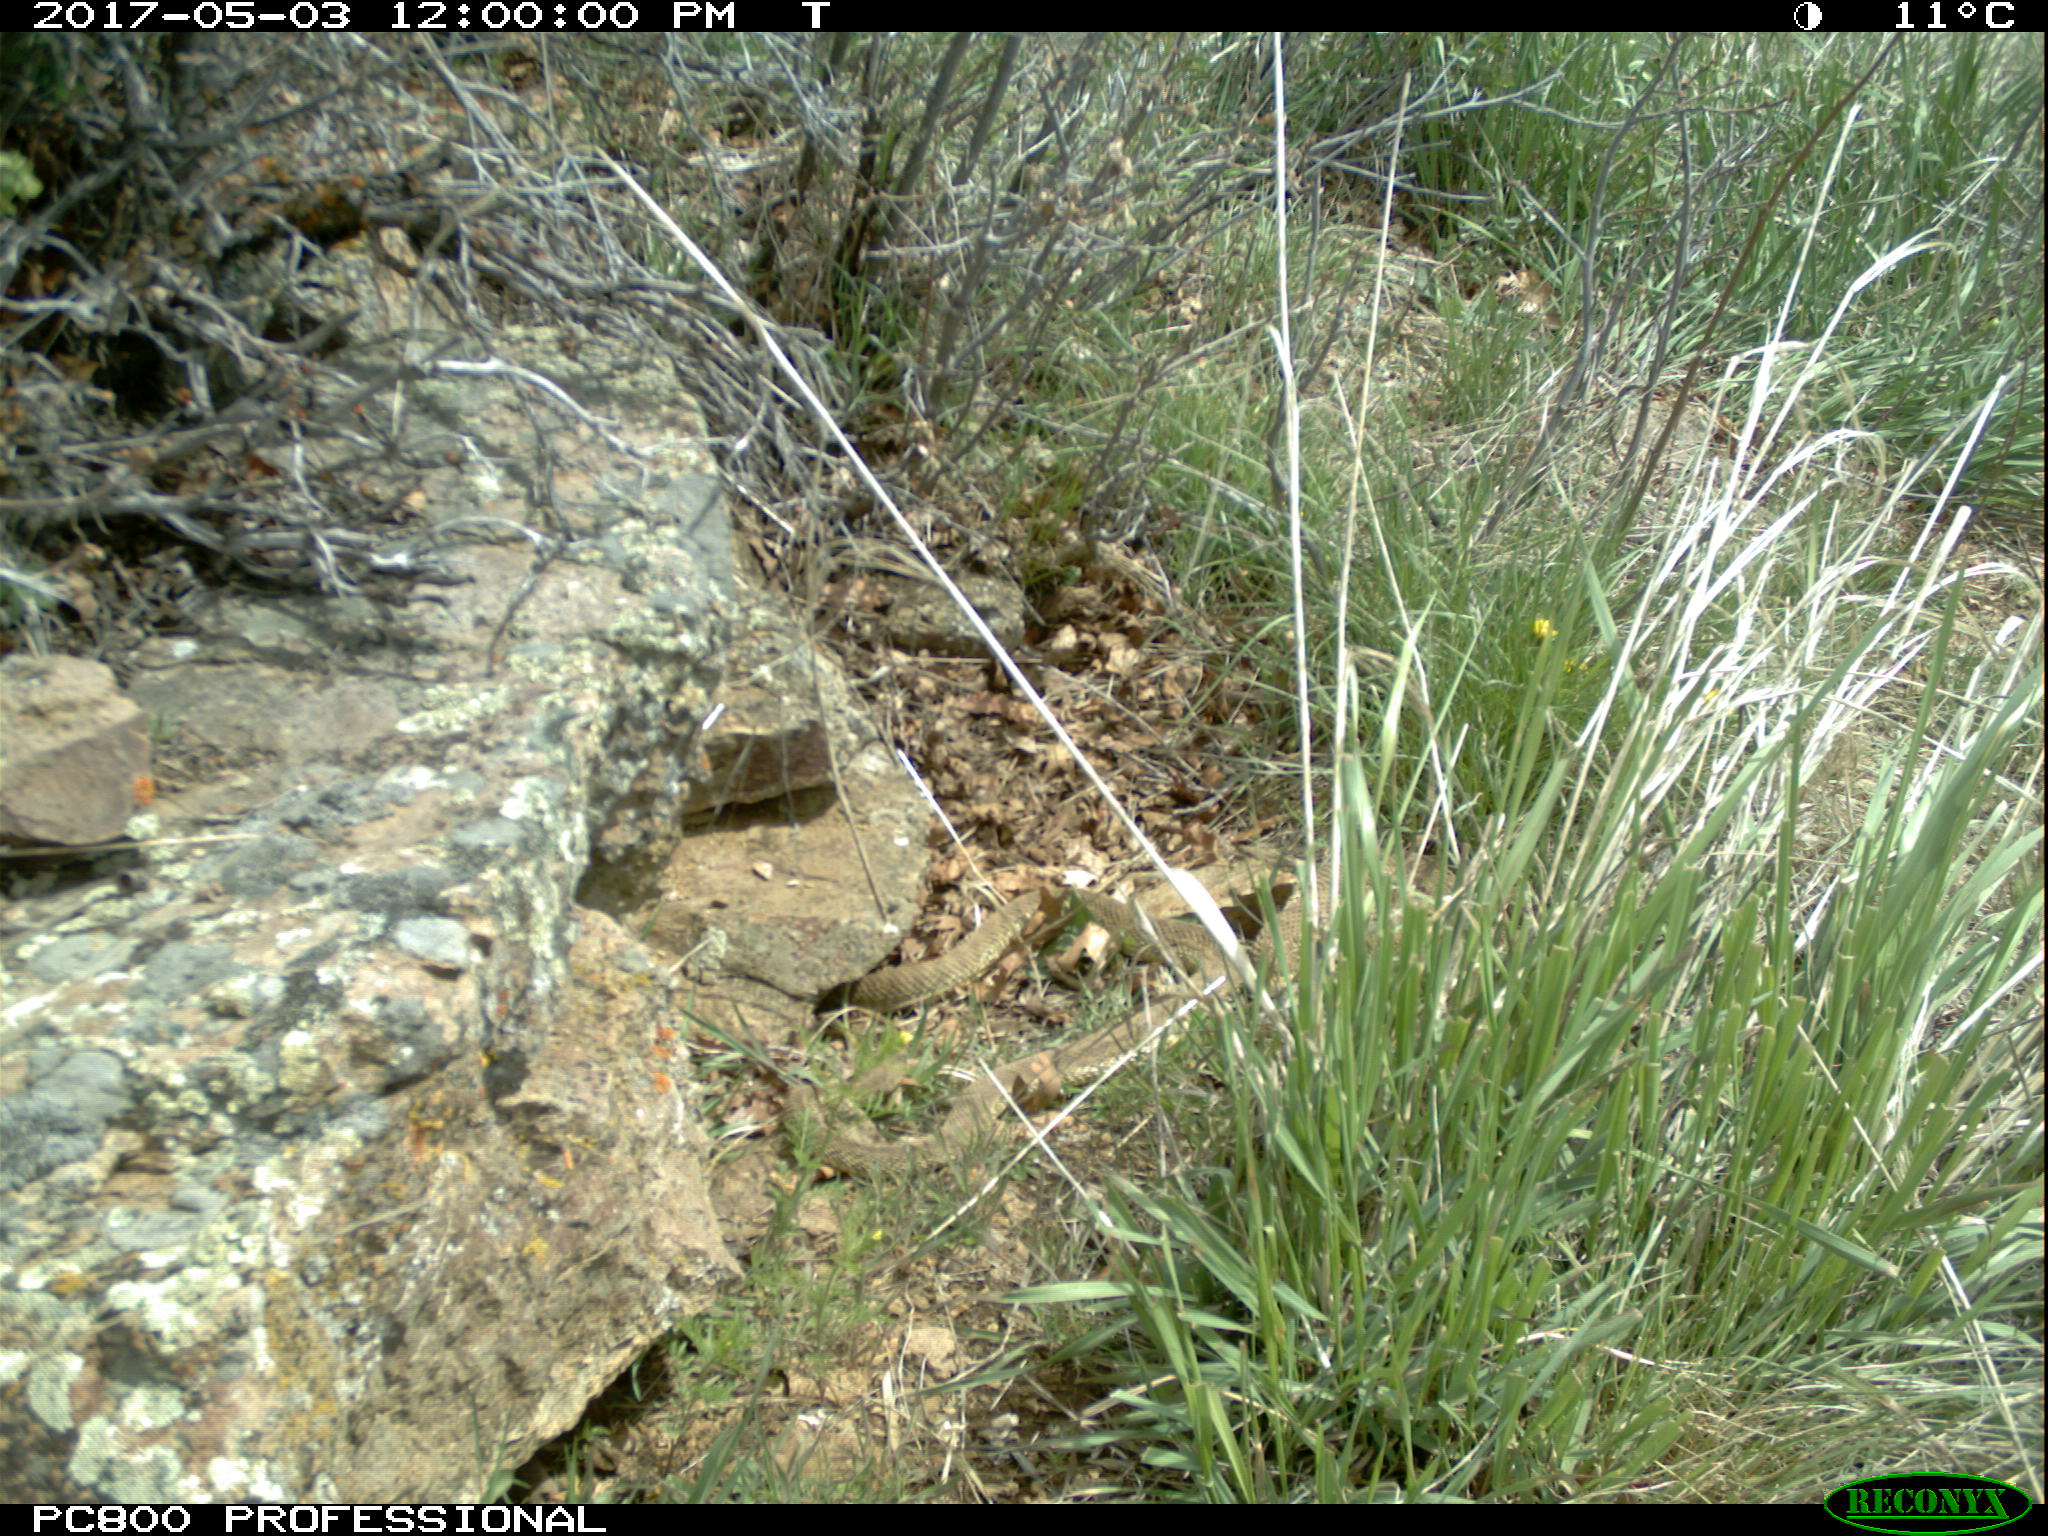snake: (772, 883, 1255, 1170)
